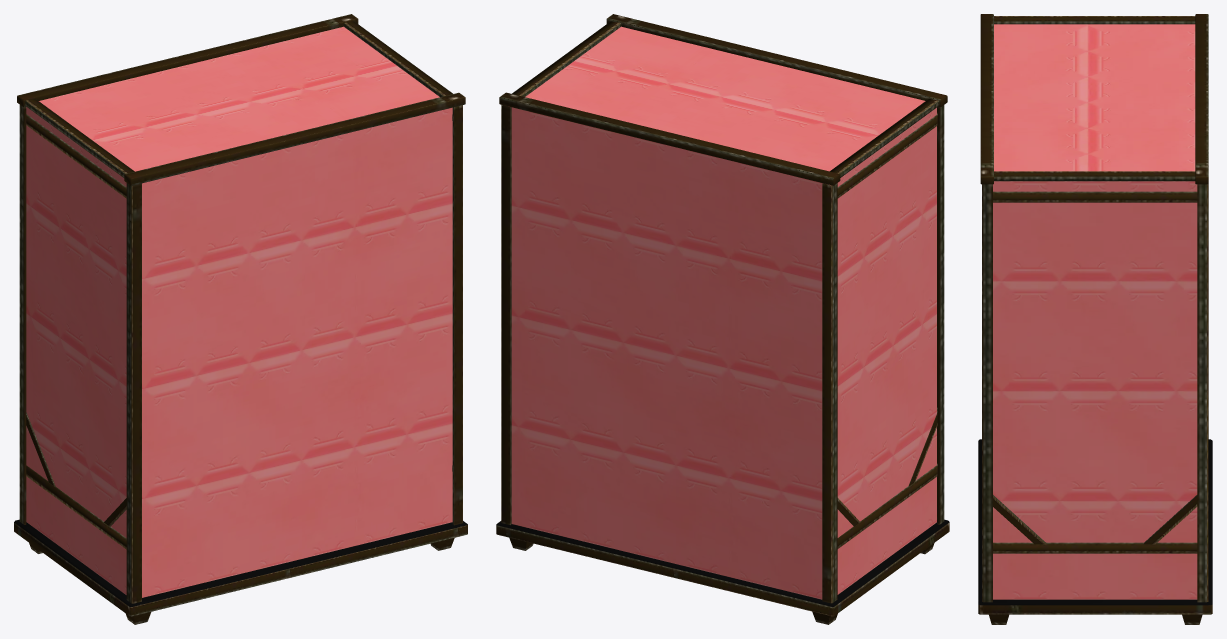
File: o_mdl_env_propFurnitureGlassCabinetA-transformed.glb
3 renders of one model, left to right at view 1: azimuth 30°, elevation 25°; view 2: azimuth 150°, elevation 25°; view 3: azimuth 270°, elevation 25°, orthographic.
Visible parts, largest first — view 1: default; view 2: default; view 3: default.
Boxes of the visible parts, x1,y1,x2,y2 form: default: (14, 14, 467, 624); default: (496, 14, 949, 624); default: (978, 14, 1212, 624).
Size of the model in its own units: 1.94 by 2.48 by 1.16.
Materials: 2 (2 with a texture image).
